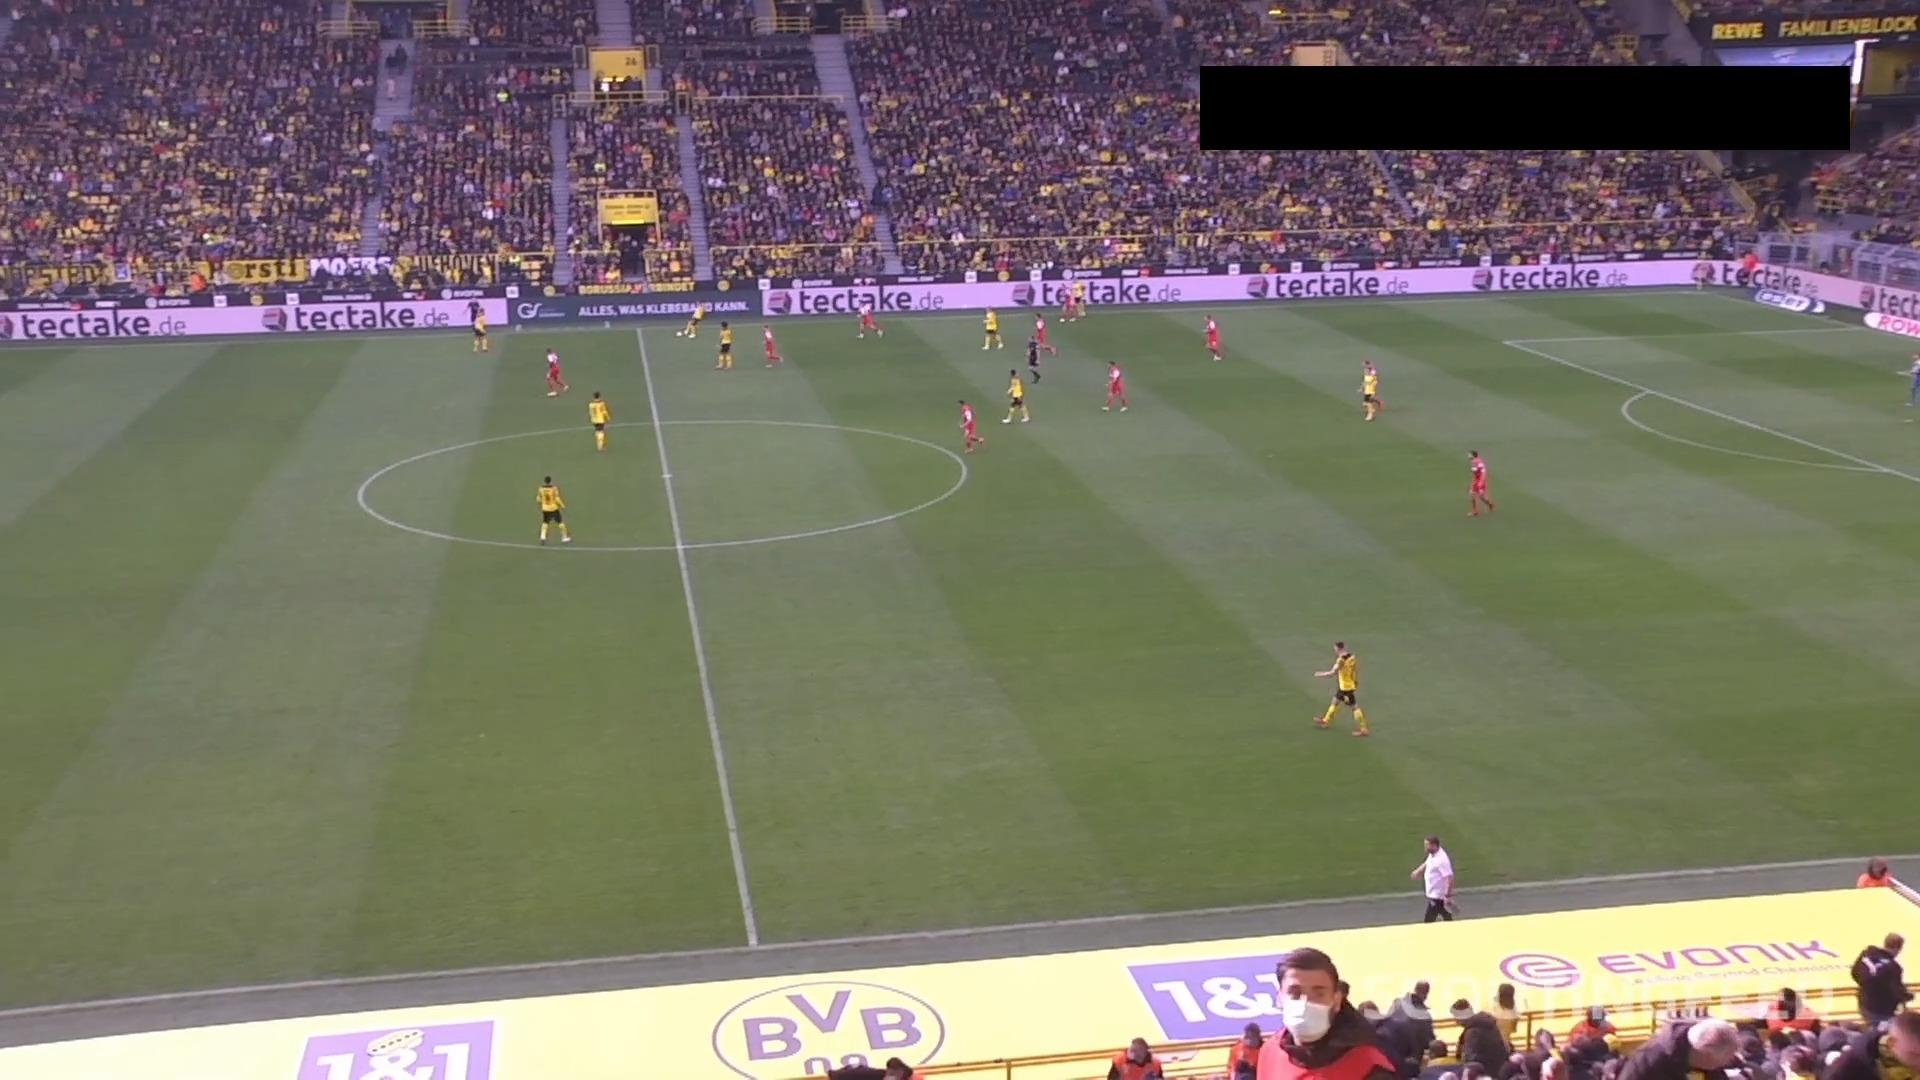ball: (675, 330, 684, 338)
